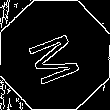M_E: (23, 25, 87, 85)
